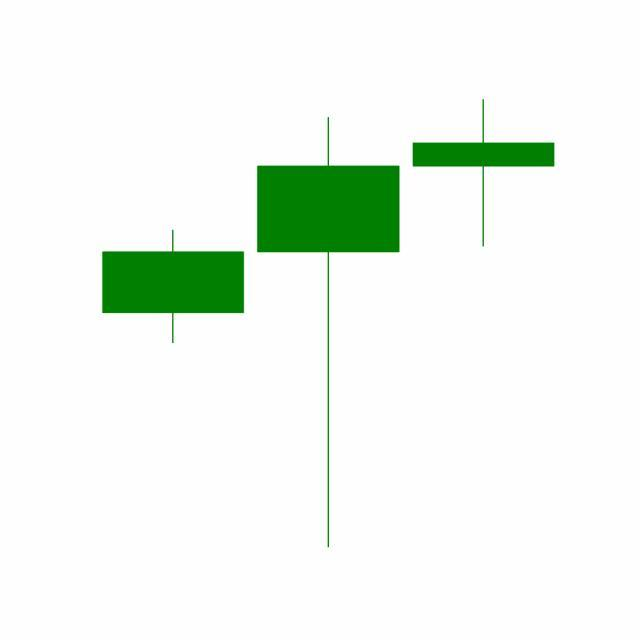Spinning Top: (406, 98, 562, 249)
